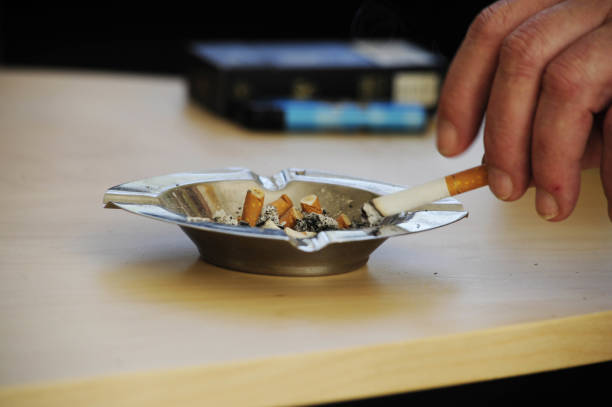cigarette: (360, 164, 490, 223), (239, 185, 264, 229), (269, 193, 294, 217), (279, 205, 304, 228), (298, 192, 323, 215), (335, 211, 353, 228)
